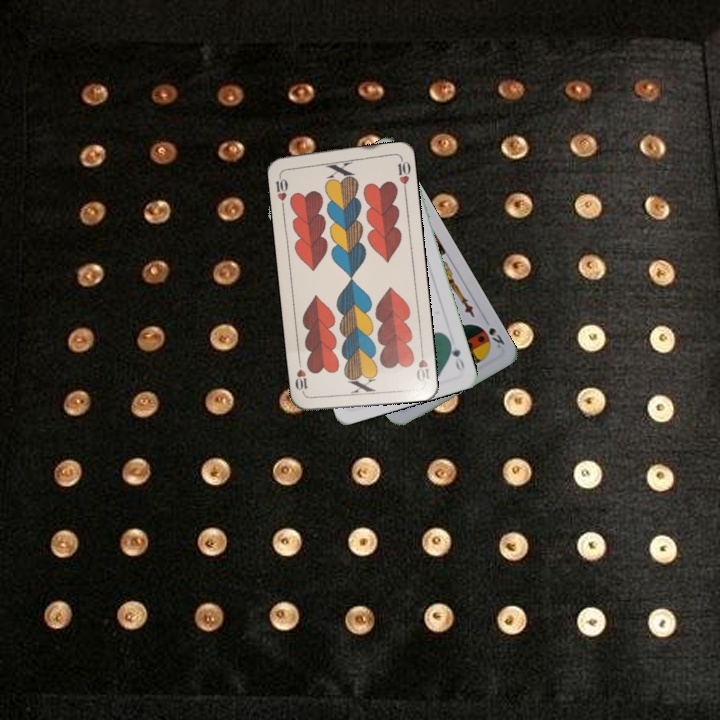GO: (444, 335, 467, 373)
H10: (412, 344, 433, 384), (271, 169, 290, 209)
SK: (484, 323, 507, 351)
